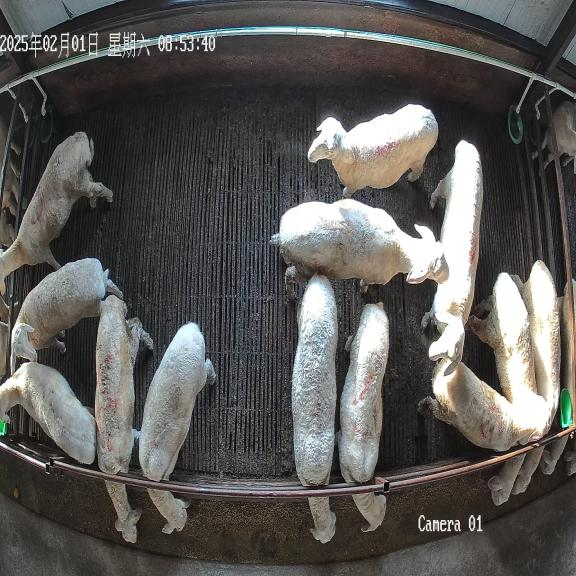eating: (467, 272, 546, 505), (139, 322, 215, 534), (95, 294, 153, 542), (292, 275, 338, 543), (337, 302, 389, 532), (512, 260, 560, 494)
stand: (0, 132, 113, 294), (271, 199, 449, 298), (421, 140, 483, 372), (10, 258, 122, 372), (308, 104, 438, 197), (419, 360, 550, 451), (0, 362, 96, 464)
